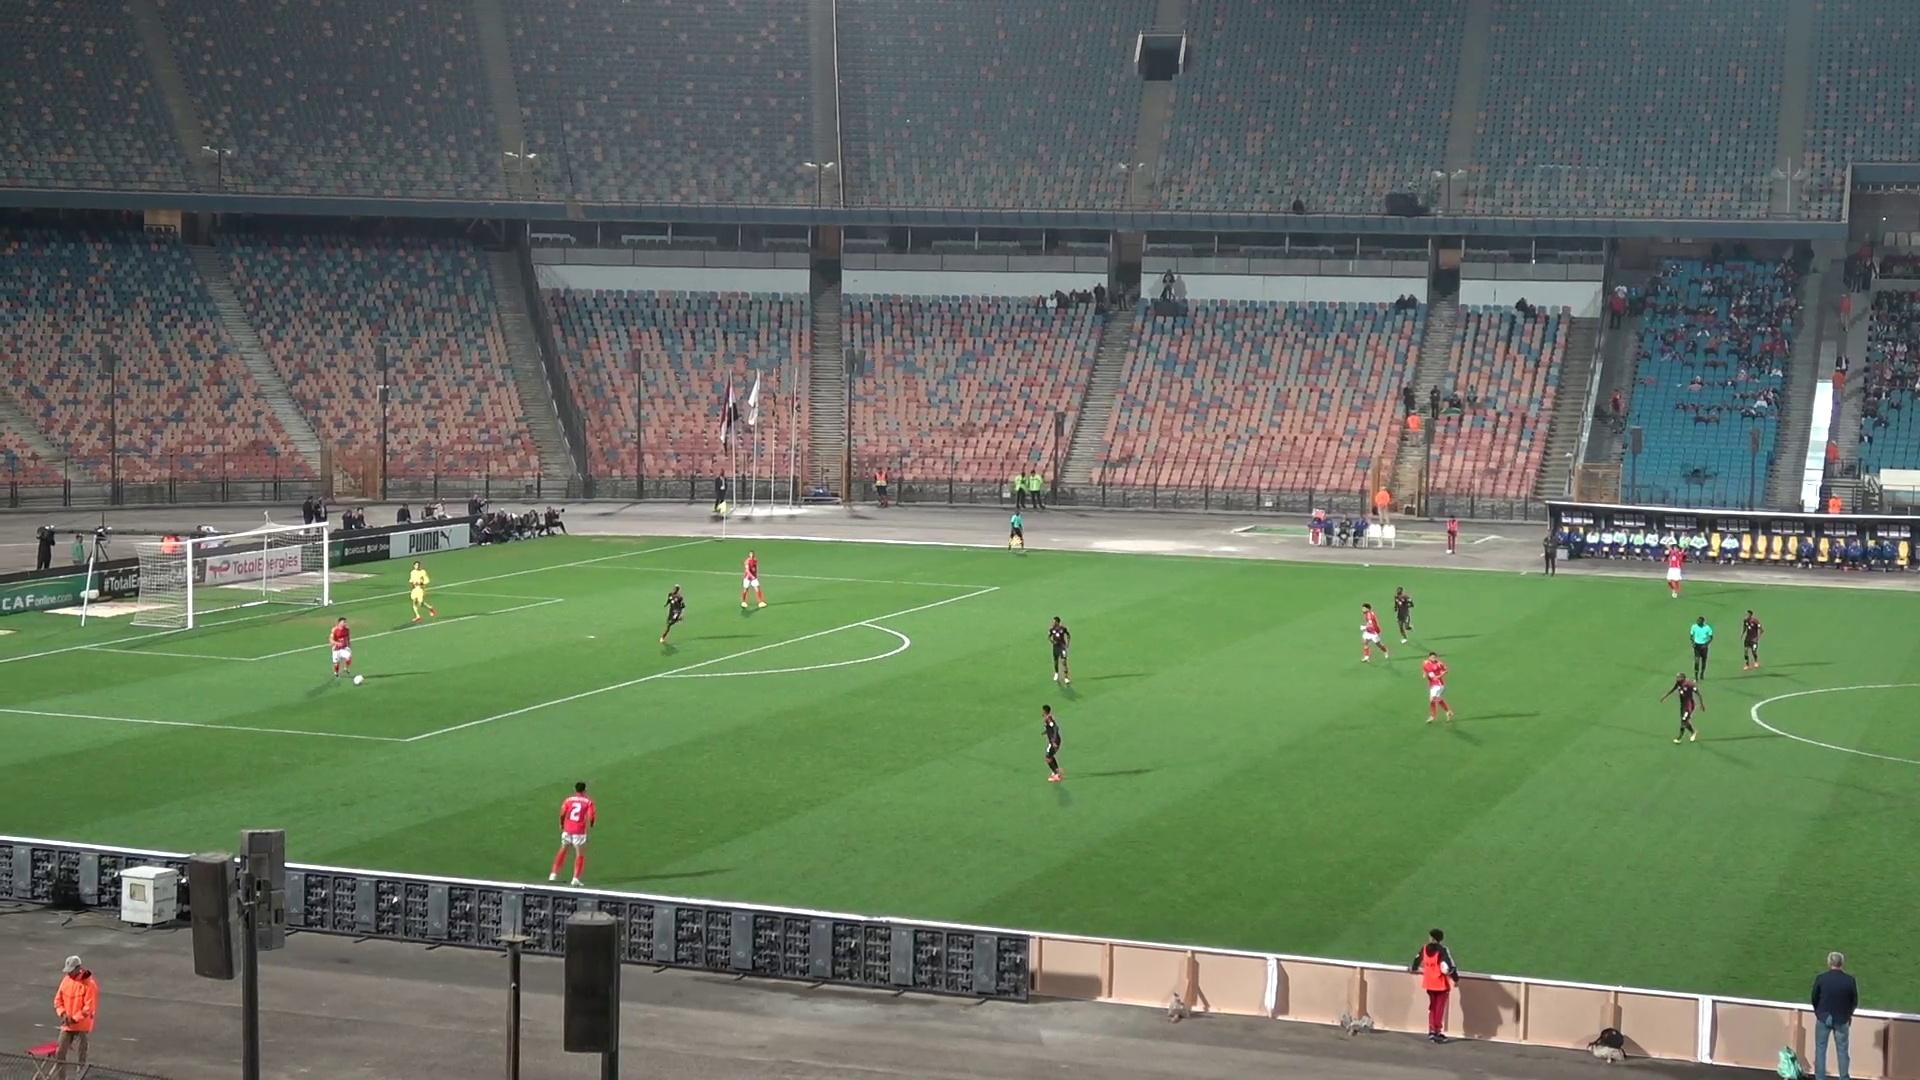Ball: (352, 674, 365, 684)
GK1: (409, 560, 436, 624)
Refree: (1687, 615, 1716, 683), (1006, 506, 1026, 553)
Team1: (549, 781, 596, 885), (1422, 651, 1453, 720), (738, 551, 767, 611), (1360, 604, 1390, 661), (328, 616, 353, 679), (1664, 542, 1687, 597)
Team2: (1662, 673, 1704, 740), (1042, 705, 1065, 782), (1046, 617, 1072, 684), (658, 585, 686, 644), (1739, 609, 1764, 669), (1391, 585, 1414, 644)
